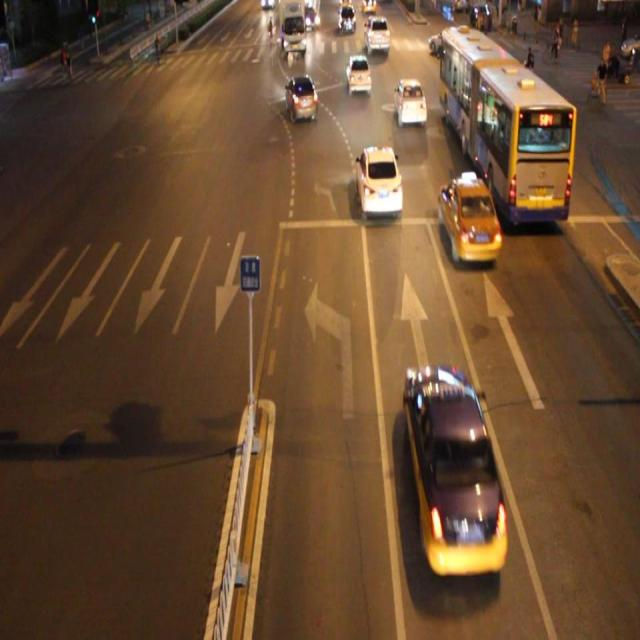car: (405, 362, 508, 574), (437, 178, 500, 262), (355, 143, 402, 214), (286, 74, 318, 125), (394, 78, 426, 128), (344, 53, 373, 96)
van: (439, 27, 569, 222)
